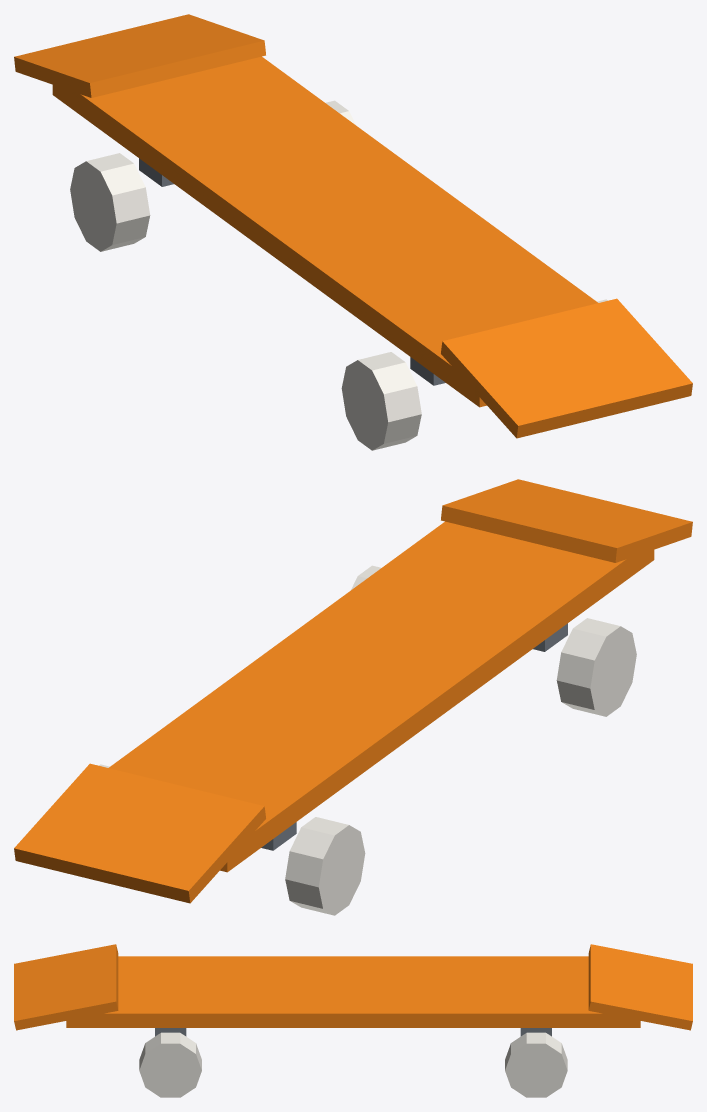
The model's file is Longboarding_Board.fbx.
3 renders of one model, top to bottom at view 1: azimuth 30°, elevation 25°; view 2: azimuth 150°, elevation 25°; view 3: azimuth 270°, elevation 25°, orthographic. The views are drawn at different scales.
Parts seen in each view (by area): view 1: Board; view 2: Board; view 3: Board.
Part boxes in pixels (x1,y1,x2,y2): Board: [14, 14, 692, 450]; Board: [14, 479, 692, 915]; Board: [14, 944, 692, 1097].
Bounding box in the file's own units: 0.37 × 0.1776 × 1.3.
